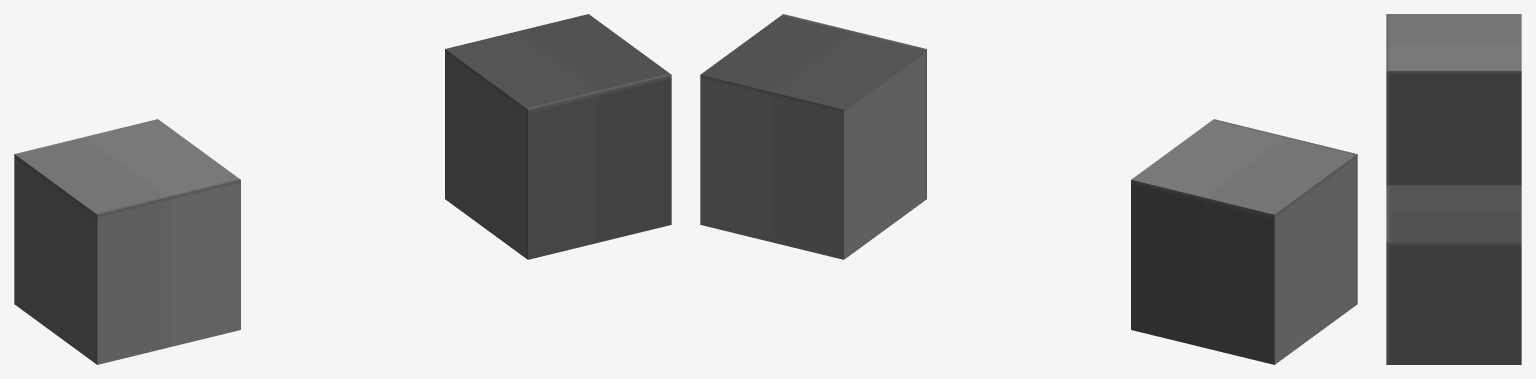
The model's file is tris.obj.
The picture shows the model from 3 angles, left to right: view 1: azimuth 30°, elevation 25°; view 2: azimuth 150°, elevation 25°; view 3: azimuth 270°, elevation 25°; orthographic projection. The views are drawn at different scales.
Visible parts, largest first — view 1: slot1; view 2: slot1; view 3: slot1.
Boxes of the visible parts, x1=… form: slot1: x1=14, y1=14, x2=671, y2=364; slot1: x1=700, y1=14, x2=1357, y2=364; slot1: x1=1386, y1=14, x2=1521, y2=364.
Size of the model in its own units: 4 by 1 by 1.
